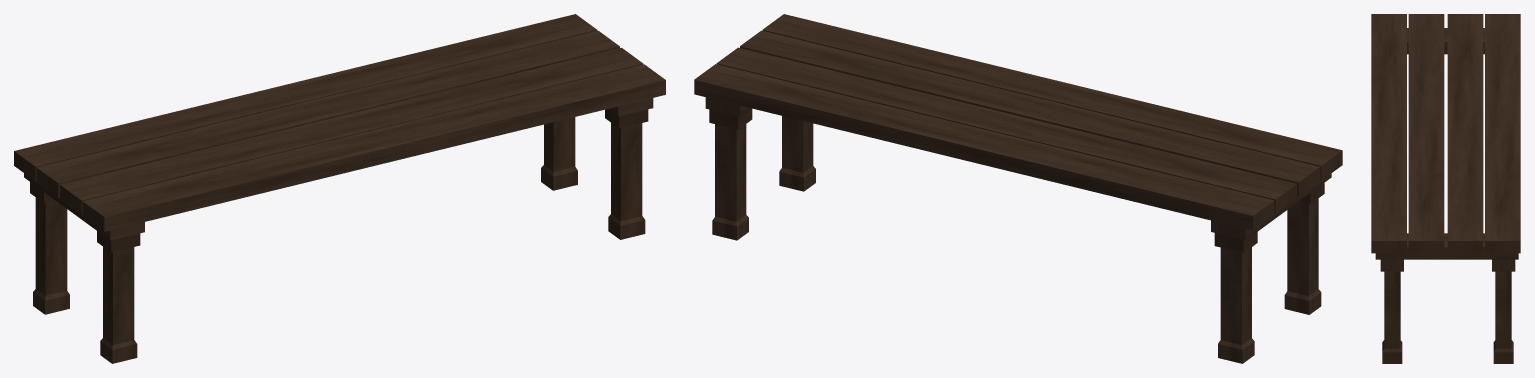
The model's file is wooden_stand2.fbx.
3 views of the same model, side by side, from view 1: azimuth 30°, elevation 25°; view 2: azimuth 150°, elevation 25°; view 3: azimuth 270°, elevation 25° (orthographic). The views are drawn at different scales.
Parts seen in each view (by area): view 1: wooden stand2; view 2: wooden stand2; view 3: wooden stand2.
Part boxes in pixels (x1,y1,x2,y2): wooden stand2: [14, 14, 665, 363]; wooden stand2: [694, 14, 1342, 363]; wooden stand2: [1371, 14, 1520, 363].
Size of the model in its own units: 199 by 52.61 by 55.37.
